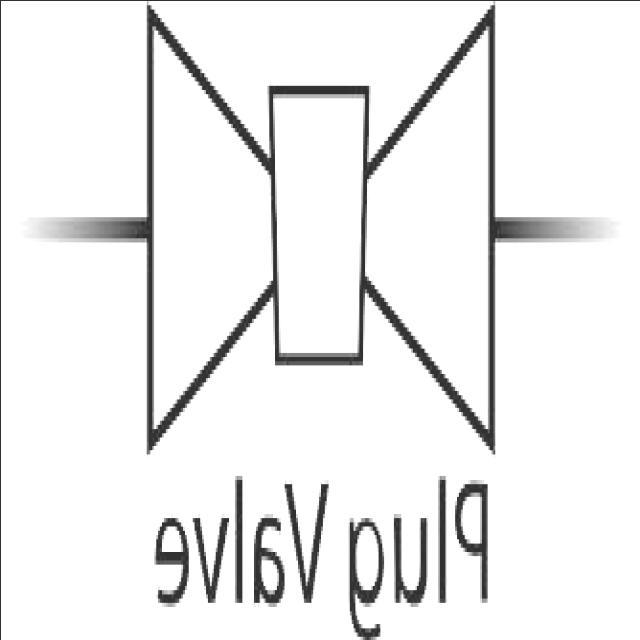Plug Valve: (70, 0, 578, 467)
